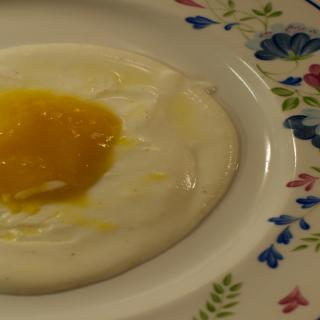Egg: (0, 41, 241, 294)
